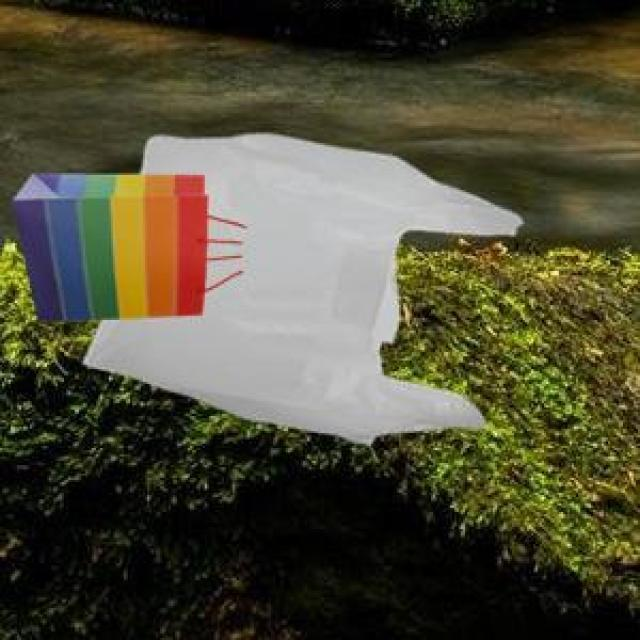paper: (9, 171, 205, 318)
